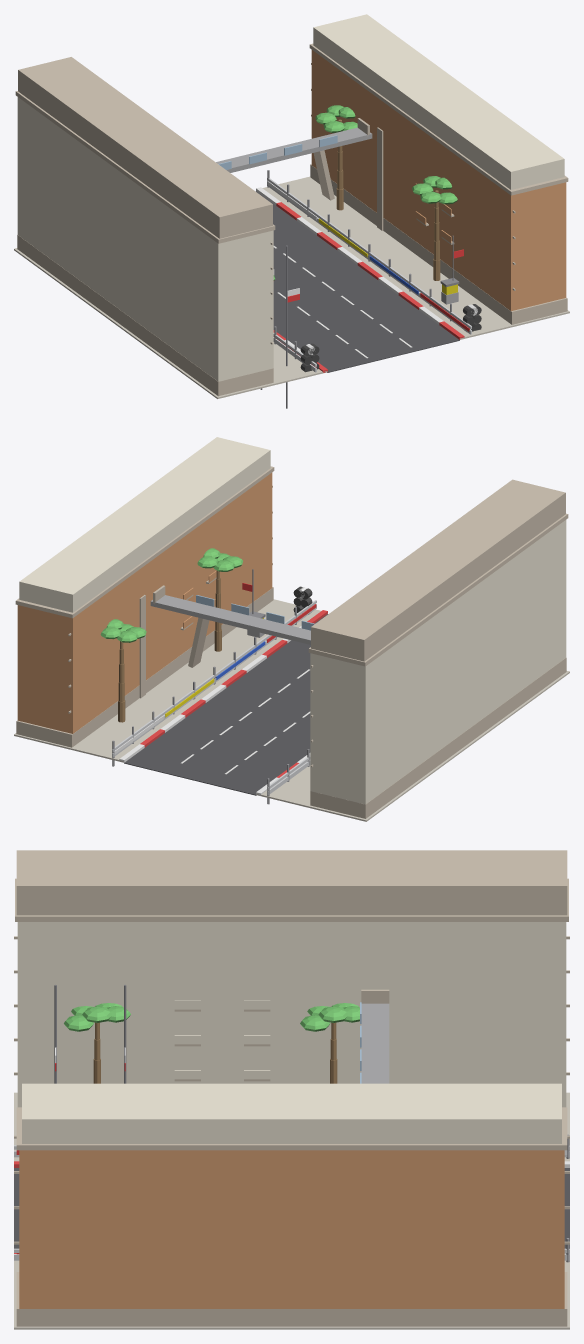
File: env1-1.glb
3 views of the same model, one above another, from view 1: azimuth 30°, elevation 25°; view 2: azimuth 150°, elevation 25°; view 3: azimuth 270°, elevation 25° (orthographic). The views are drawn at different scales.
Visible parts, largest first — view 1: env1-1.001; view 2: env1-1.001; view 3: env1-1.001.
Boxes of the visible parts, bbox=[...] form: env1-1.001: bbox=[14, 14, 569, 408]; env1-1.001: bbox=[14, 437, 569, 821]; env1-1.001: bbox=[14, 850, 569, 1329].
Size of the model in its own units: 20 by 12 by 20.
